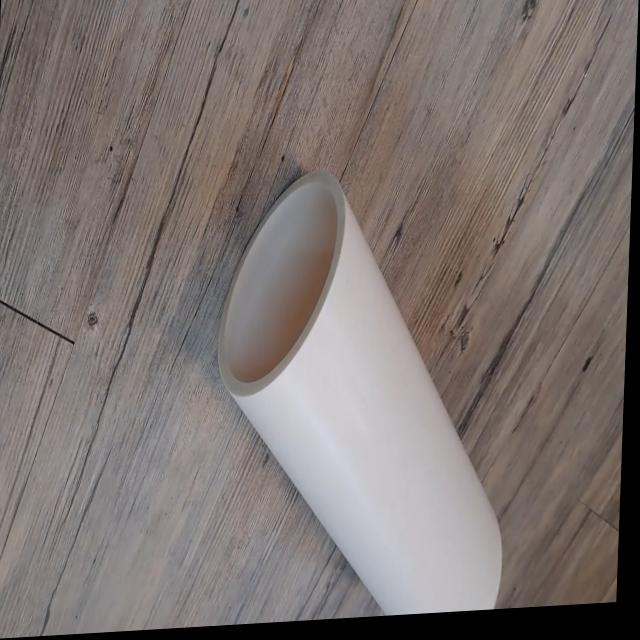CORAL: (198, 146, 528, 627)
